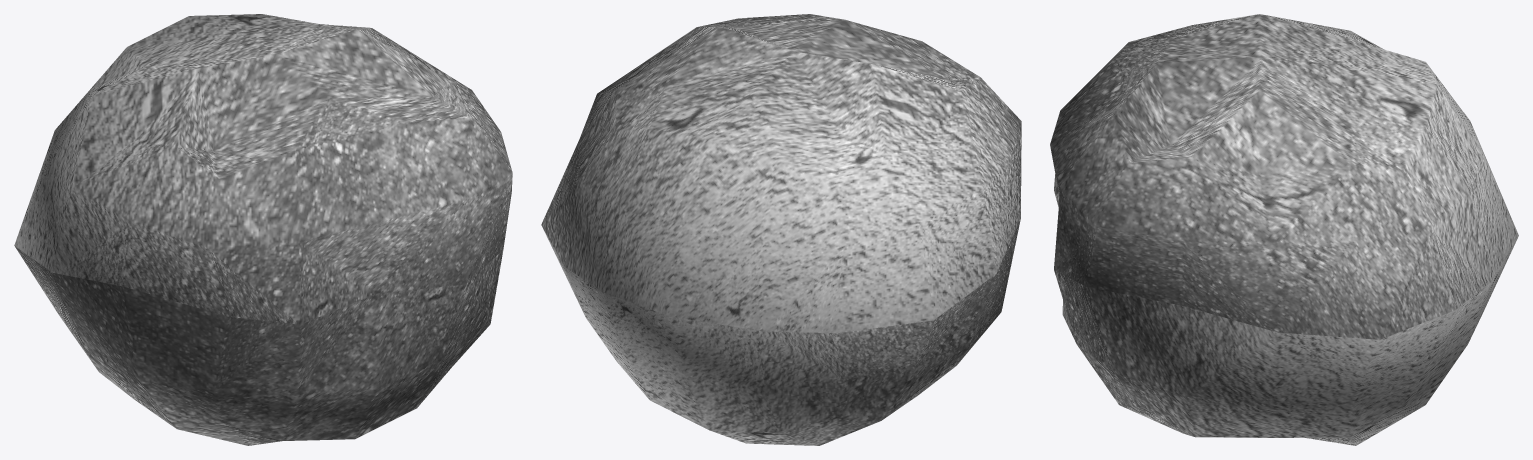
The model's file is meteor1.fbx.
The picture shows the model from 3 angles, left to right: view 1: azimuth 30°, elevation 25°; view 2: azimuth 150°, elevation 25°; view 3: azimuth 270°, elevation 25°; orthographic projection. The views are drawn at different scales.
Parts seen in each view (by area): view 1: Cube; view 2: Cube; view 3: Cube.
Part boxes in pixels (x1,y1,x2,y2): Cube: (14,14,512,445); Cube: (541,14,1021,445); Cube: (1050,14,1518,445).
Bounding box in the file's own units: 194 × 160 × 183.
